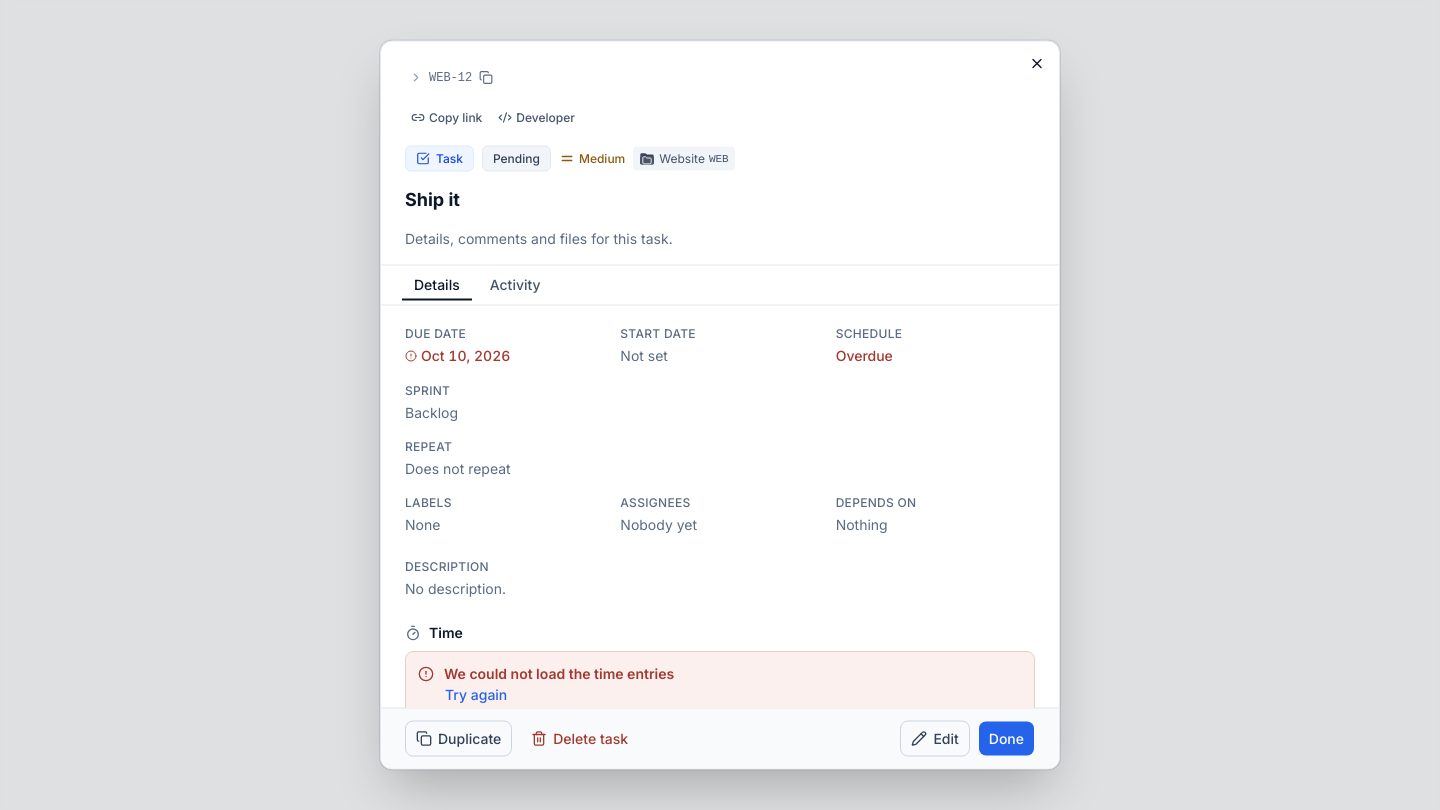
Activity tab › shows an error with a retry that loads the entries
This screenshot has width=1440, height=810.
Click the tab "Activity".
click(515, 285)  # box x1=477 y1=268 x2=554 y2=301
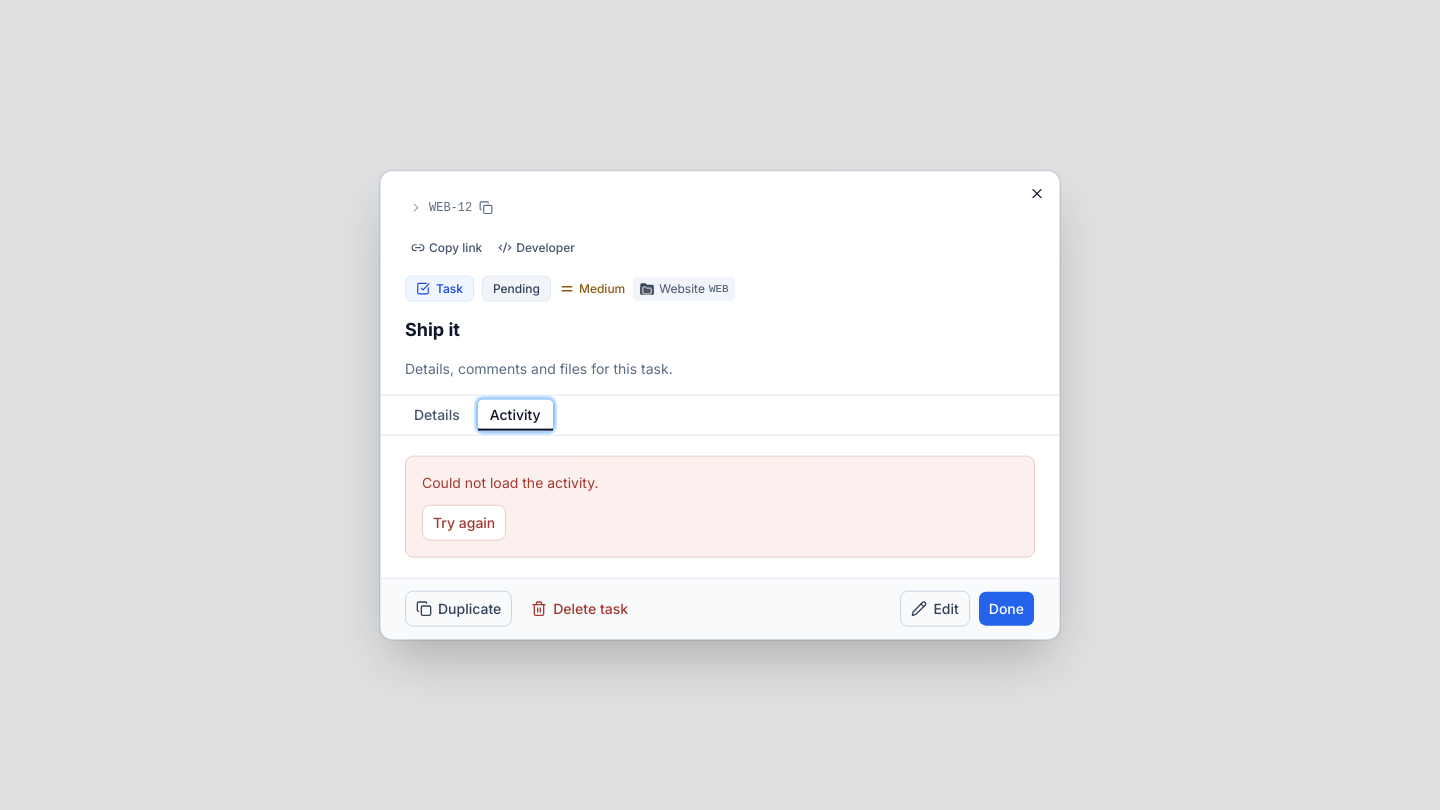
Expected: the message "Could not load the activity. Try again" is shown, x1=405 y1=455 x2=1035 y2=557
Click the button "Try again".
click(464, 522)  # box x1=422 y1=504 x2=506 y2=540
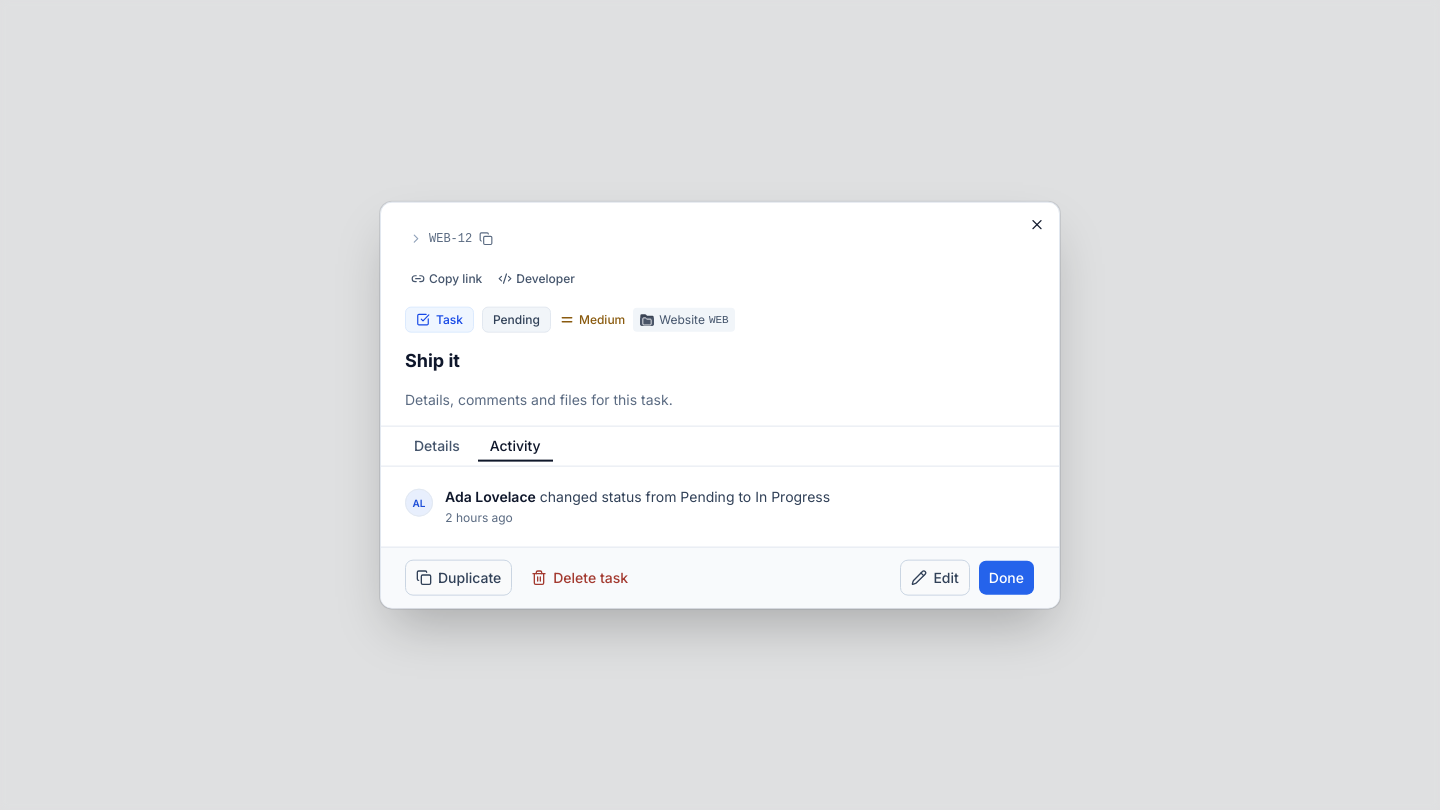
Expected: the text "Ada Lovelace changed status from Pending to In Progress" is shown, x1=445 y1=486 x2=830 y2=506
Expected: the message "Could not load the activity. Try again" is gone
